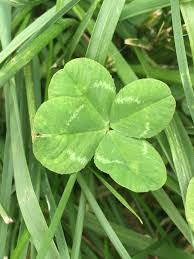4-clover: (34, 59, 172, 192)
